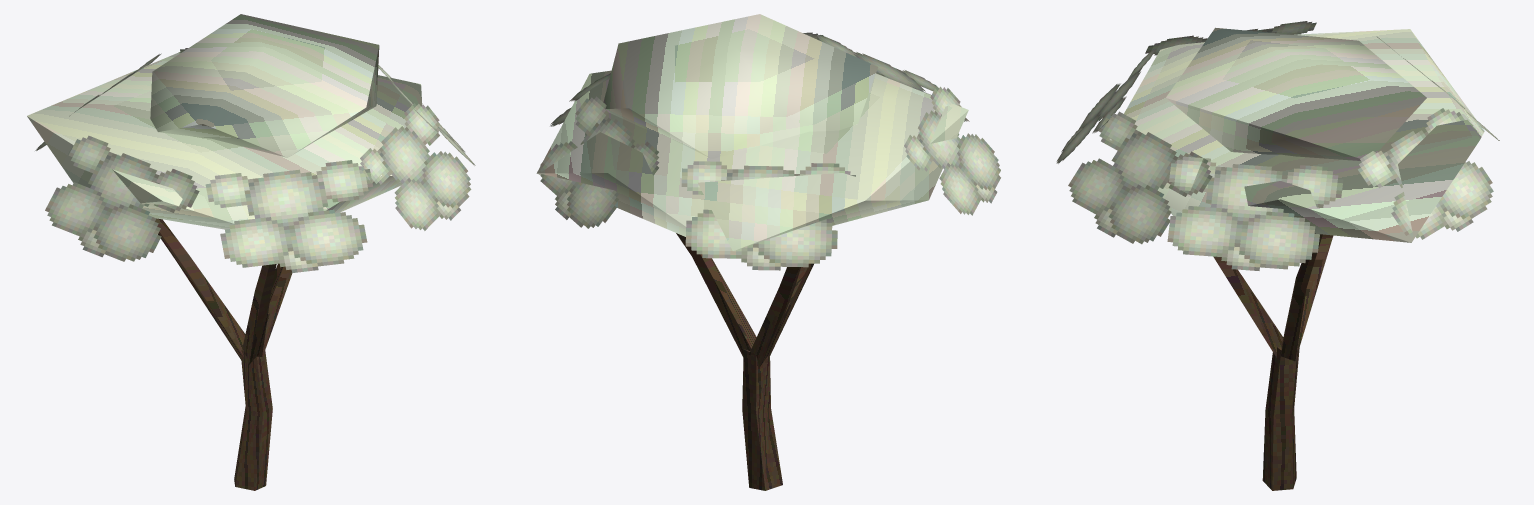
File: espino.glb
3 renders of one model, left to right at view 1: azimuth 30°, elevation 25°; view 2: azimuth 150°, elevation 25°; view 3: azimuth 270°, elevation 25°, orthographic. The views are drawn at different scales.
Visible parts, largest first — view 1: espino_copa, espino_borde, espino_tronco; view 2: espino_copa, espino_borde, espino_tronco; view 3: espino_copa, espino_borde, espino_tronco.
Part boxes in pixels (left/top/right/bottom): espino_copa: left=27, top=14, right=422, bottom=229; espino_borde: left=35, top=48, right=475, bottom=272; espino_tronco: left=155, top=218, right=292, bottom=490; espino_copa: left=536, top=14, right=968, bottom=251; espino_borde: left=540, top=32, right=1000, bottom=270; espino_tronco: left=676, top=233, right=813, bottom=490; espino_copa: left=1109, top=27, right=1484, bottom=242; espino_borde: left=1056, top=21, right=1499, bottom=270; espino_tronco: left=1213, top=233, right=1333, bottom=490.
Bounding box in the file's own units: 3.6 × 3.49 × 3.43.
Materials: 3 (3 with a texture image).
